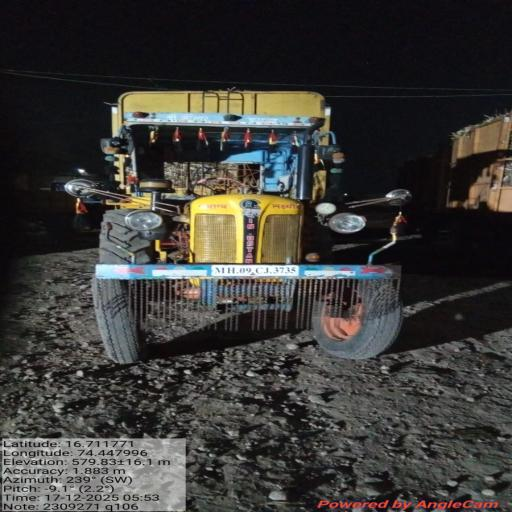number_plate: (212, 265, 299, 277)
